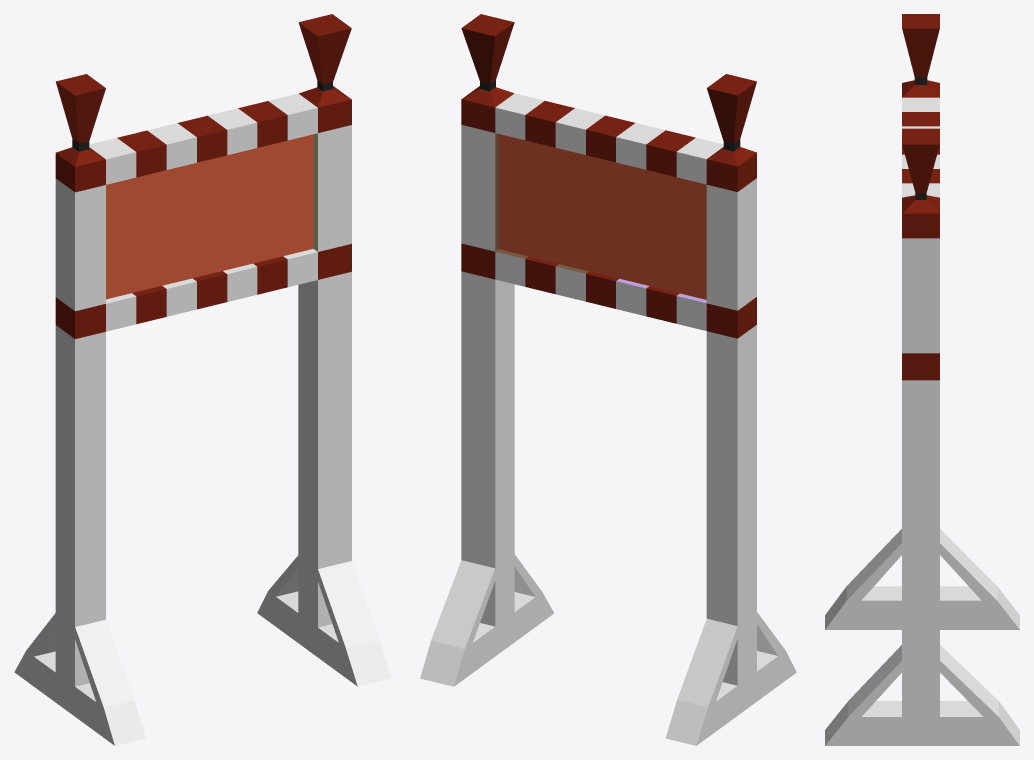
The model's file is balla.fbx.
3 renders of one model, left to right at view 1: azimuth 30°, elevation 25°; view 2: azimuth 150°, elevation 25°; view 3: azimuth 270°, elevation 25°, orthographic. The views are drawn at different scales.
Parts seen in each view (by area): view 1: Cube; view 2: Cube; view 3: Cube.
Boxes of the visible parts, <box> form: Cube: <box>14,14,391,745</box>; Cube: <box>420,14,796,745</box>; Cube: <box>825,14,1019,745</box>.
Size of the model in its own units: 457 by 980 by 288.
Materials: 1 (1 with a texture image).
